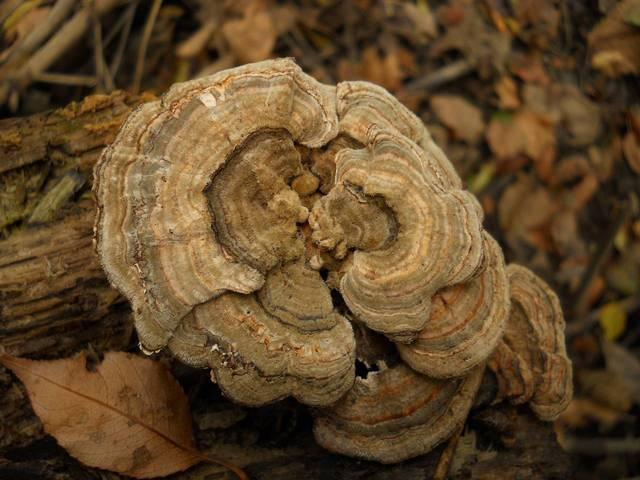poisonous_mushroom: (89, 56, 574, 465), (90, 55, 339, 355)
